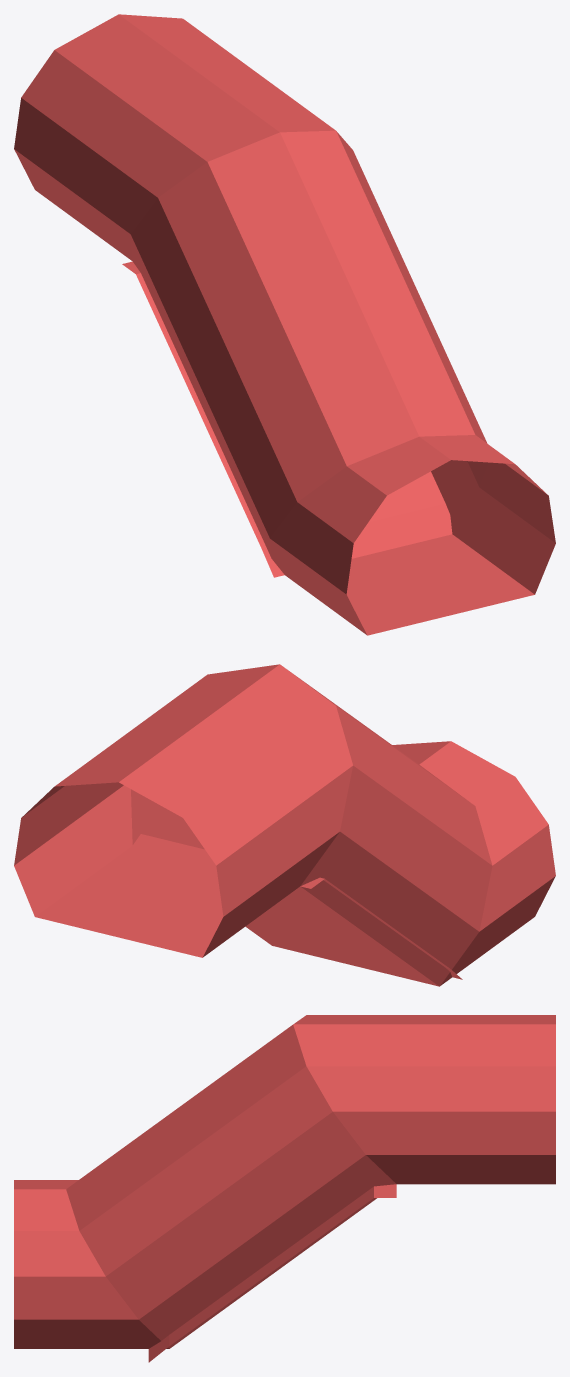
File: mesh_corridor_stairway_COLLISION.fbx
3 renders of one model, top to bottom at view 1: azimuth 30°, elevation 25°; view 2: azimuth 150°, elevation 25°; view 3: azimuth 270°, elevation 25°, orthographic. The views are drawn at different scales.
Parts seen in each view (by area): view 1: mesh_corridor_stairway_COLLISION; view 2: mesh_corridor_stairway_COLLISION; view 3: mesh_corridor_stairway_COLLISION.
Boxes of the visible parts, bbox=[...] form: mesh_corridor_stairway_COLLISION: bbox=[14, 14, 555, 635]; mesh_corridor_stairway_COLLISION: bbox=[14, 664, 555, 986]; mesh_corridor_stairway_COLLISION: bbox=[14, 1015, 555, 1362].
Size of the model in its own units: 13.87 by 21.2 by 35.76.
